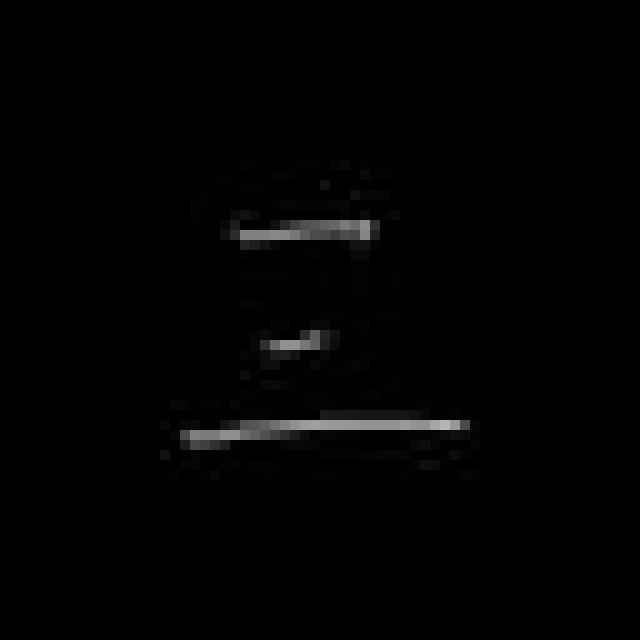3 -three-: (163, 202, 495, 458)
